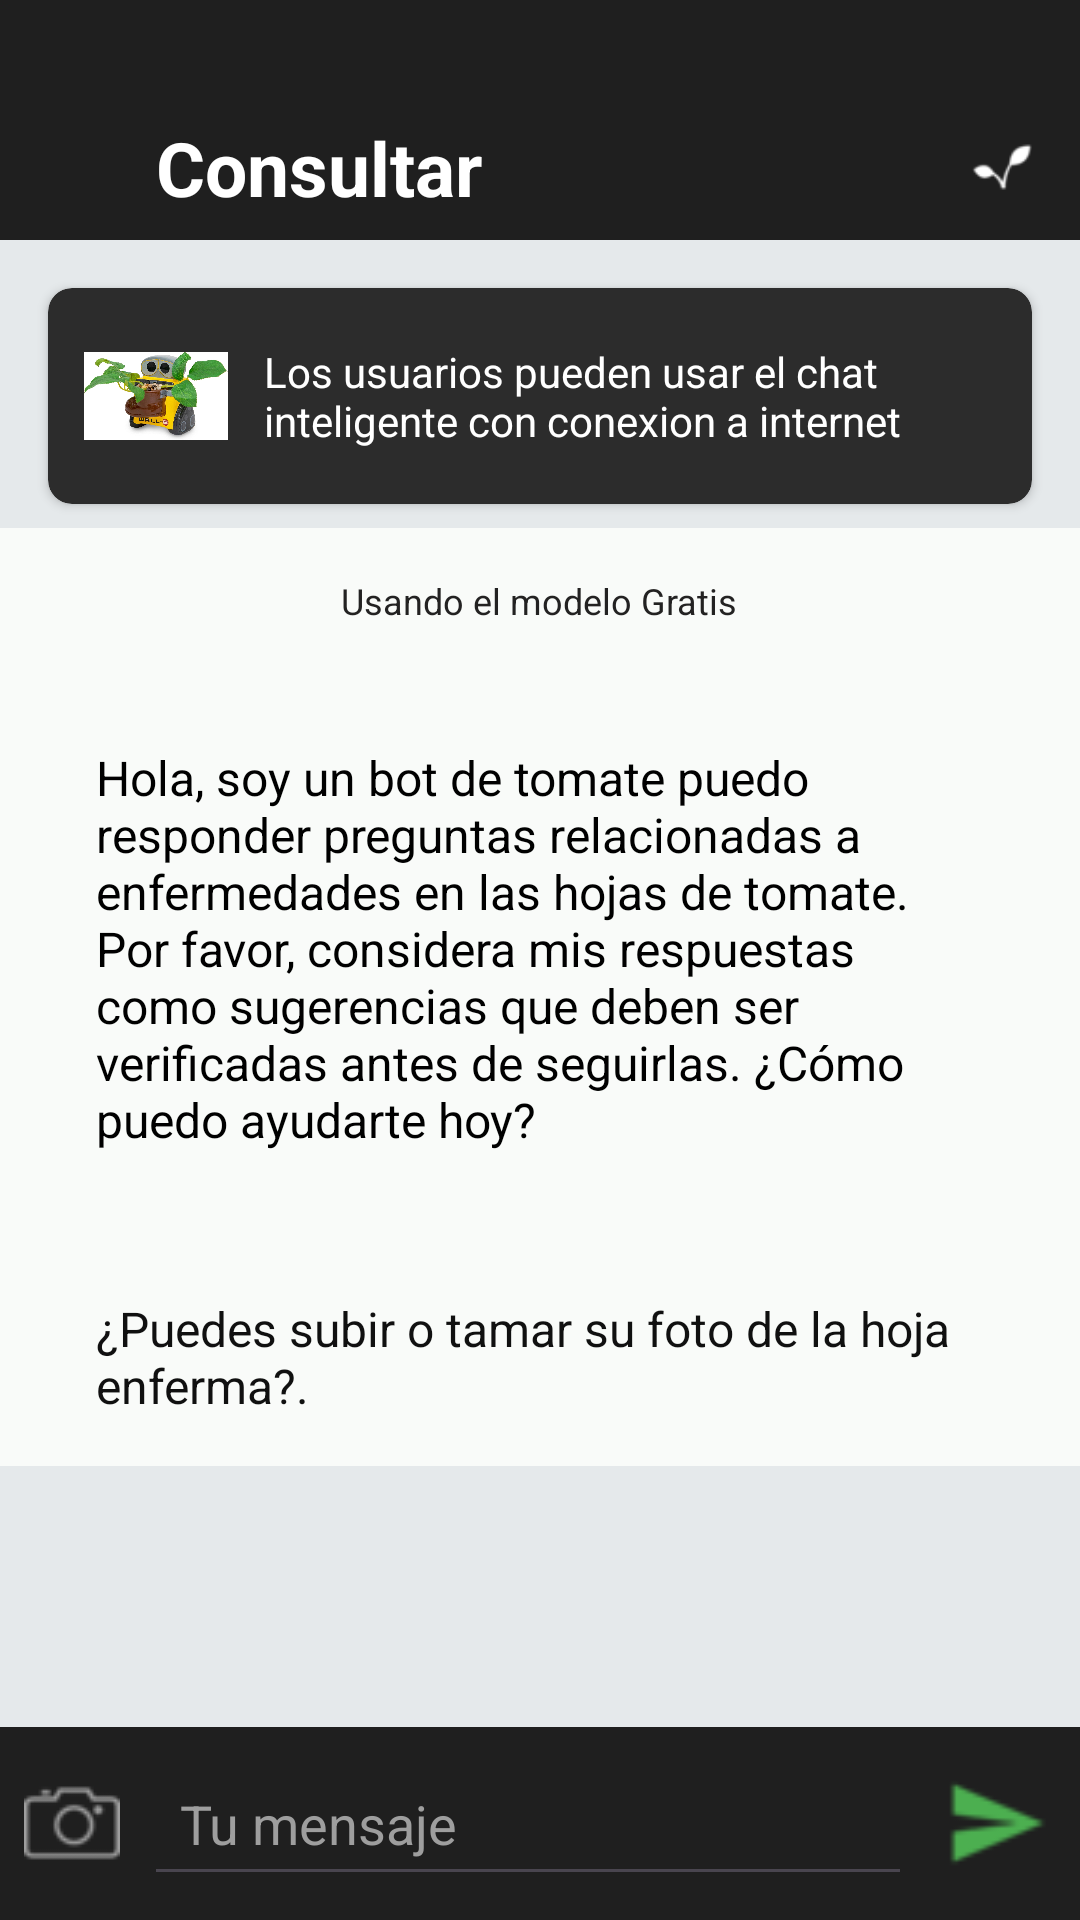

Icon bounding boxes for this 1080w x 1920h phone screenshot, format box(x1, y1, x2, y2):
camera: box(24, 1786, 120, 1860)
enviar: box(951, 1784, 1042, 1862)
hojatomate: box(973, 144, 1032, 190)
